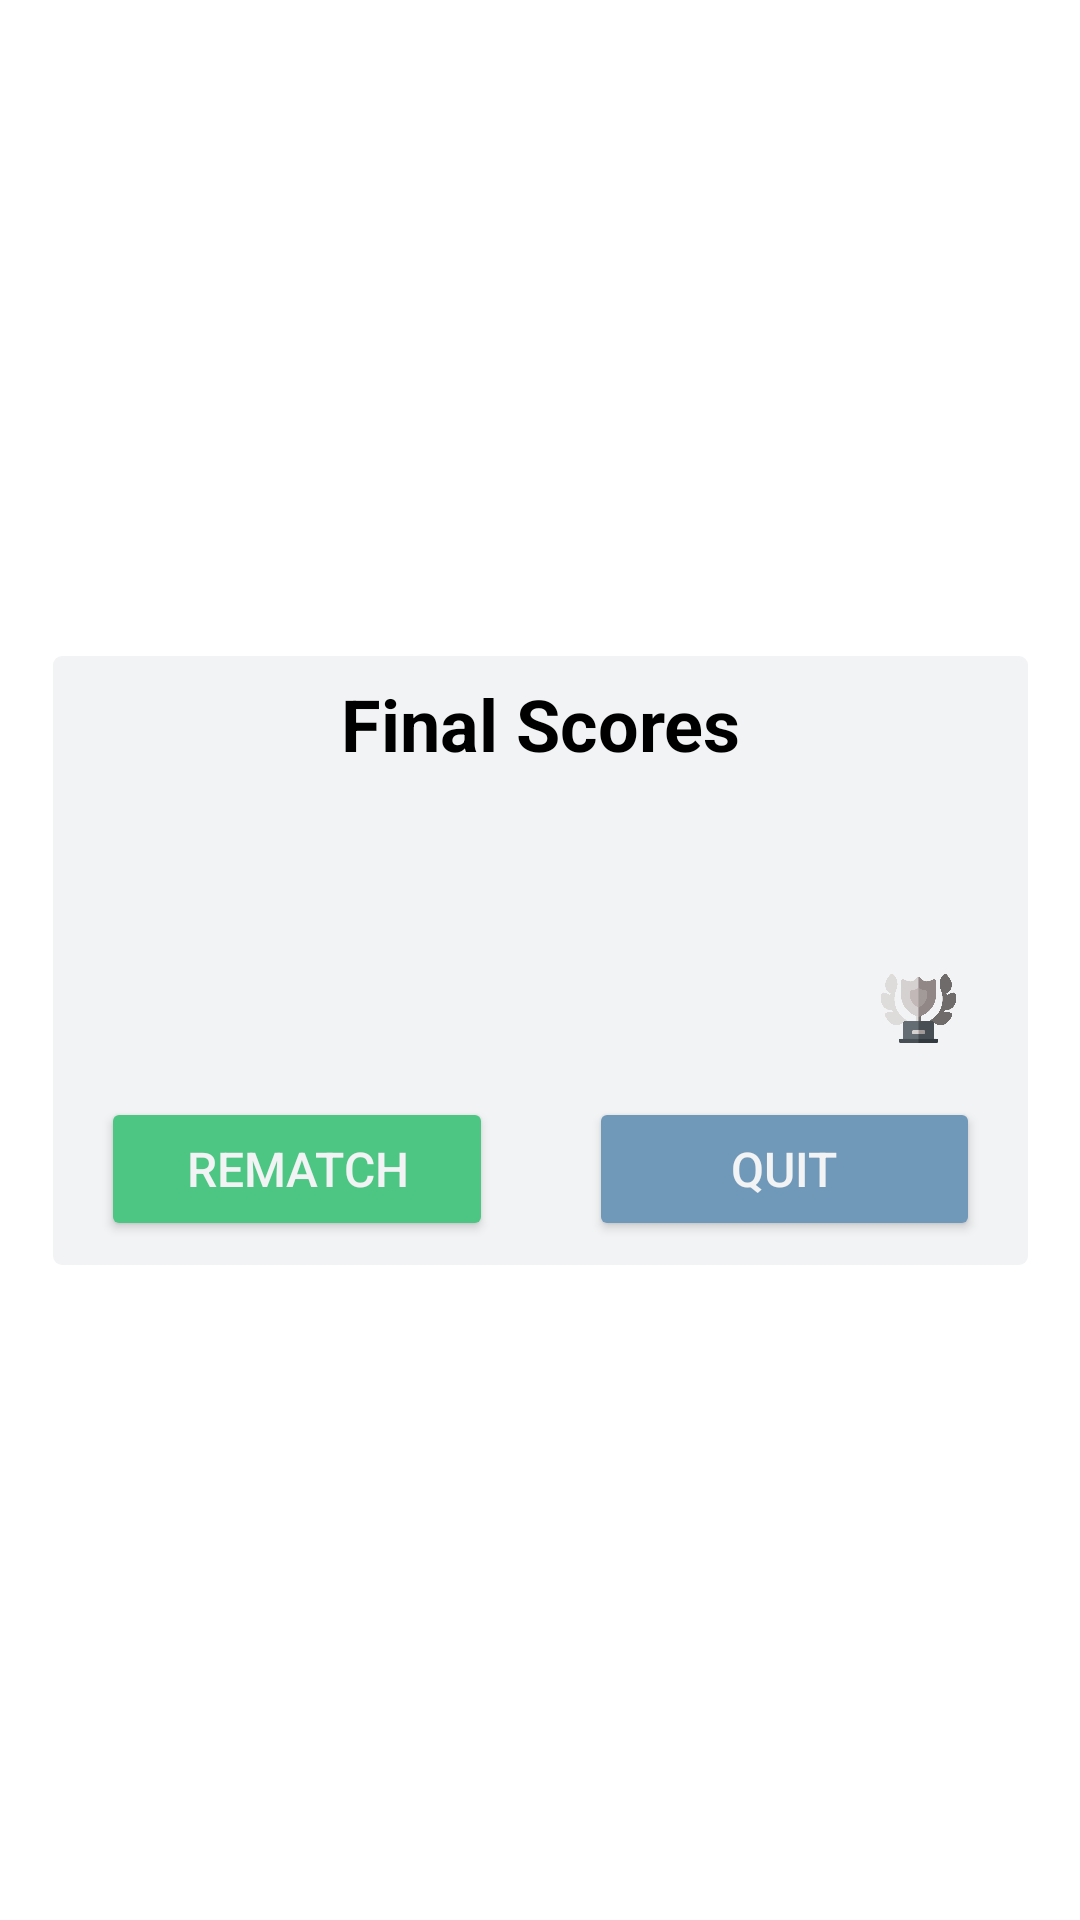

Screen size 1080 x 1920. Icon name, then its box in pixels as bbox=(x1, y1, x2, y2):
trophy: bbox=(881, 974, 956, 1043)
